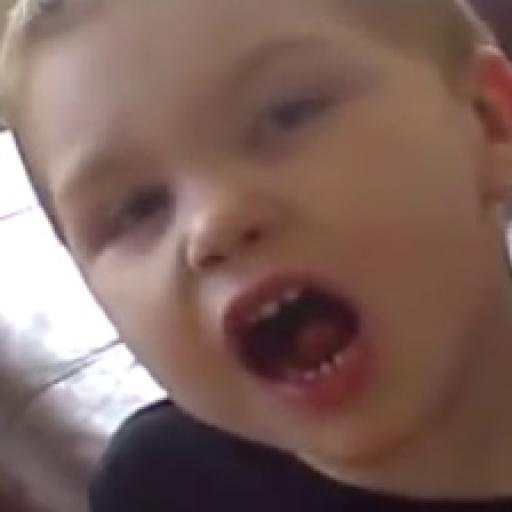Autism: (14, 0, 512, 468)
